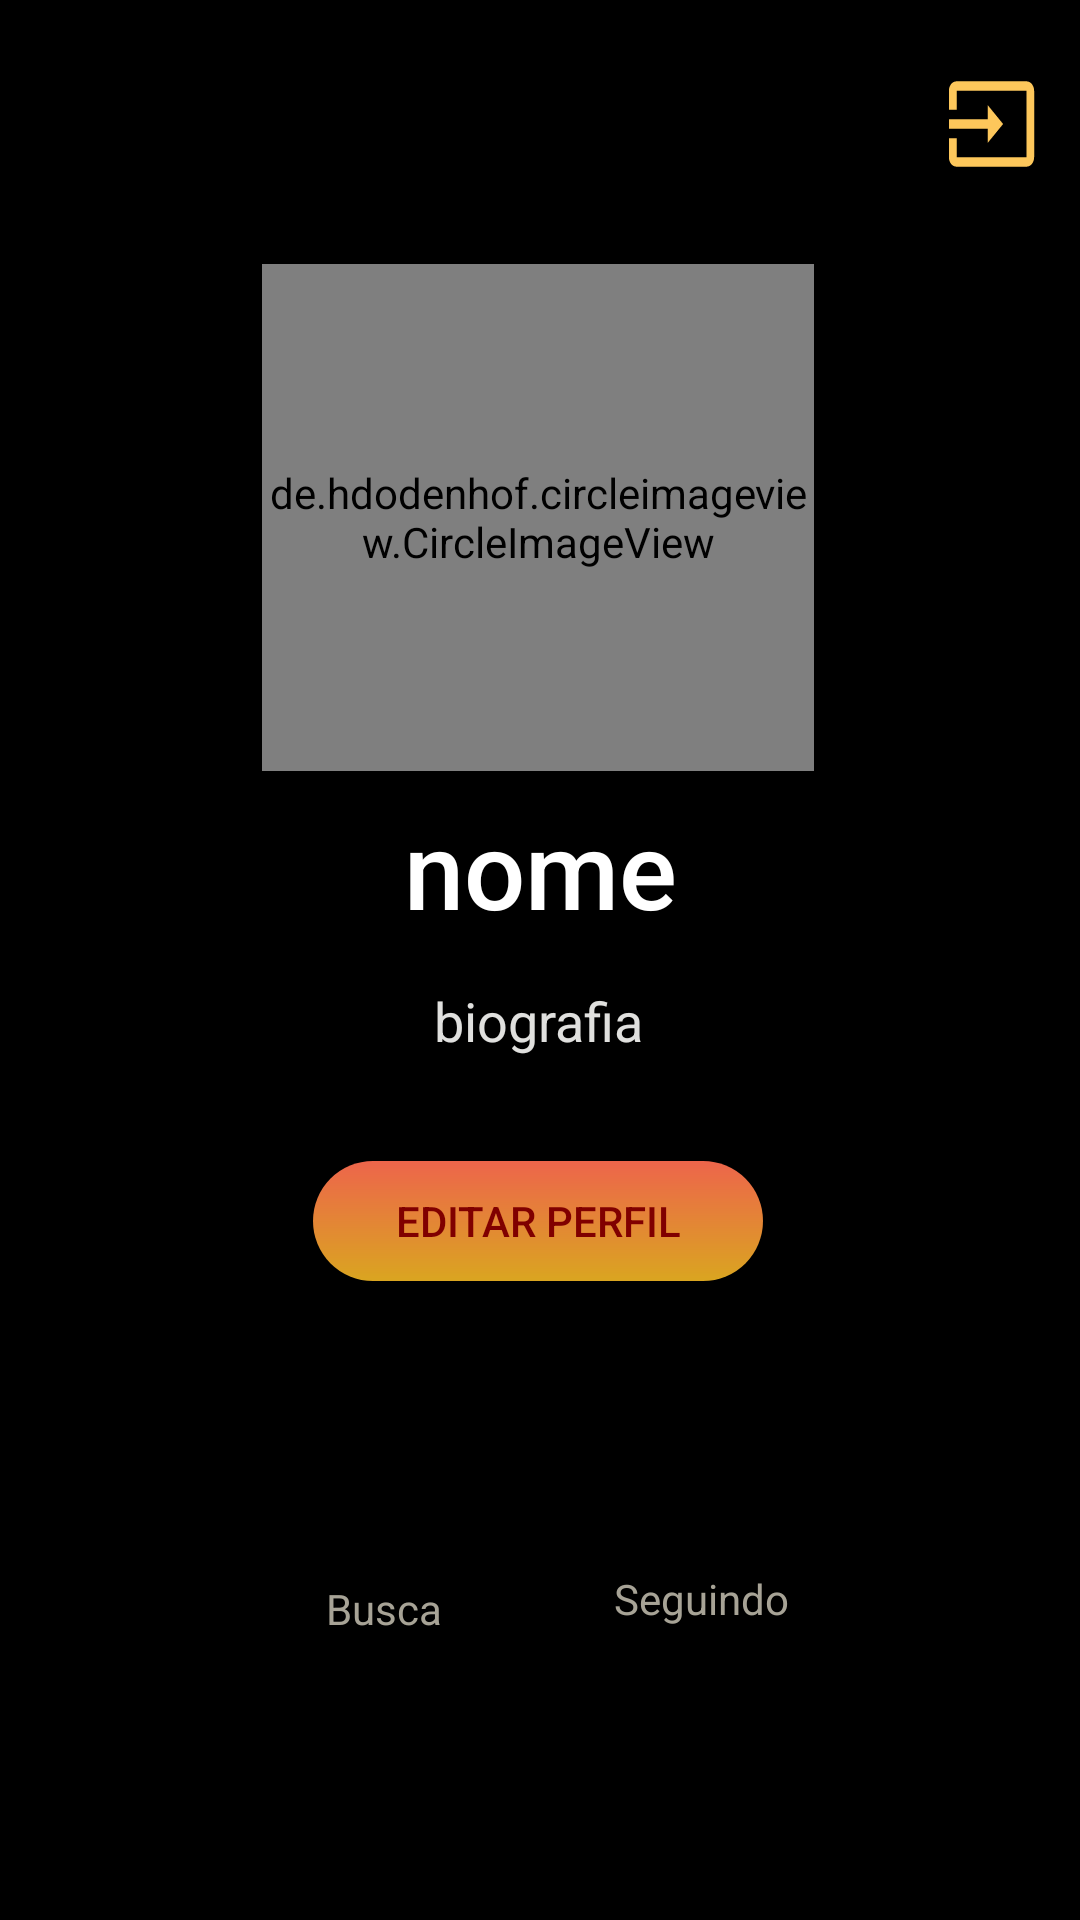

Named icons in this screenshot (1080 x 1920) and their bounding boxes, (x1, y1, x2, y2):
input: (949, 81, 1035, 167)
